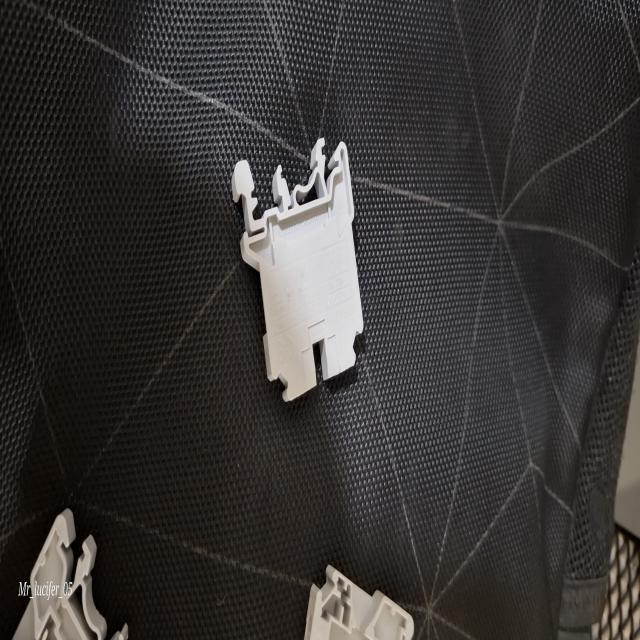Inverted: (230, 142, 366, 402)
